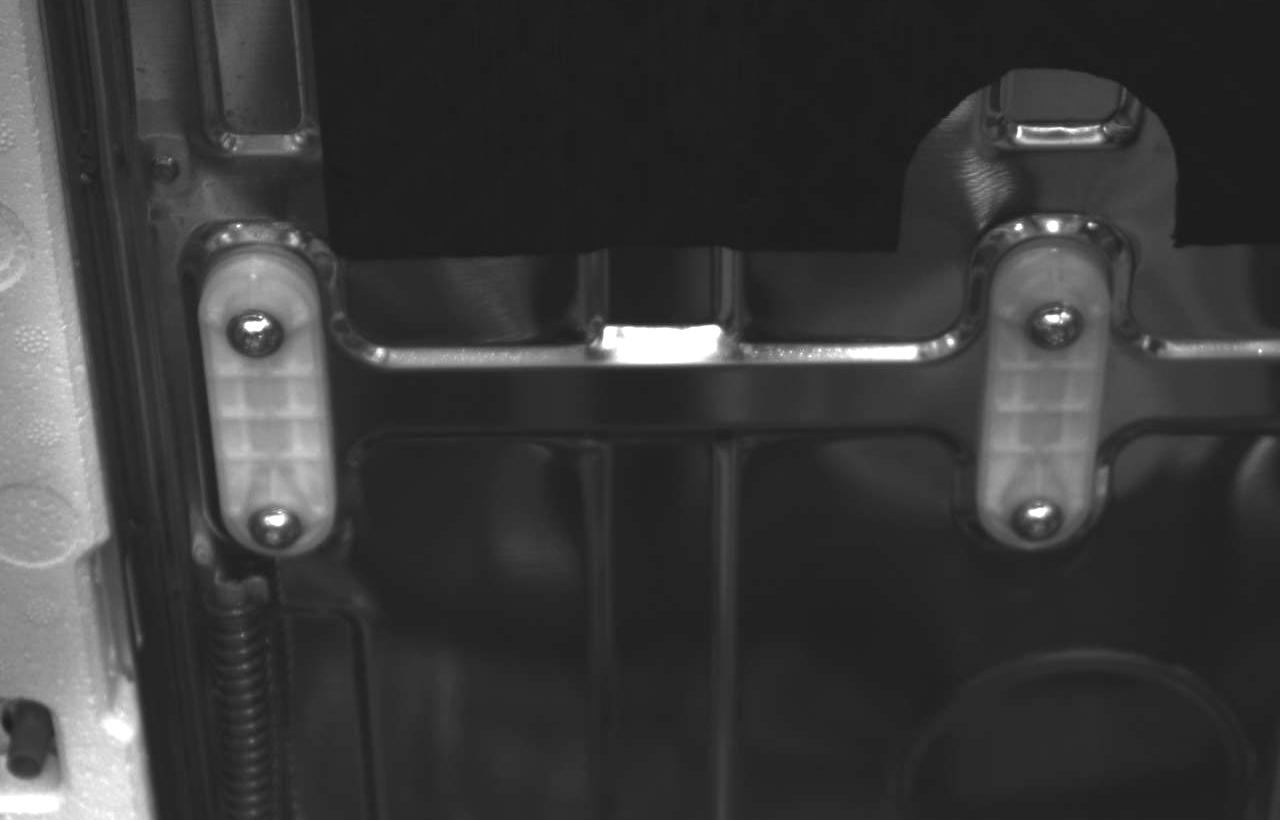vida-ok: (217, 302, 289, 369), (1024, 291, 1091, 358), (1003, 484, 1069, 552), (241, 497, 307, 555)
